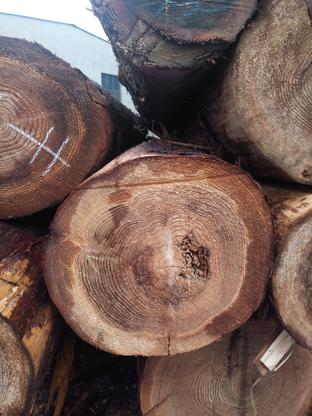mood: (42, 155, 274, 356)
